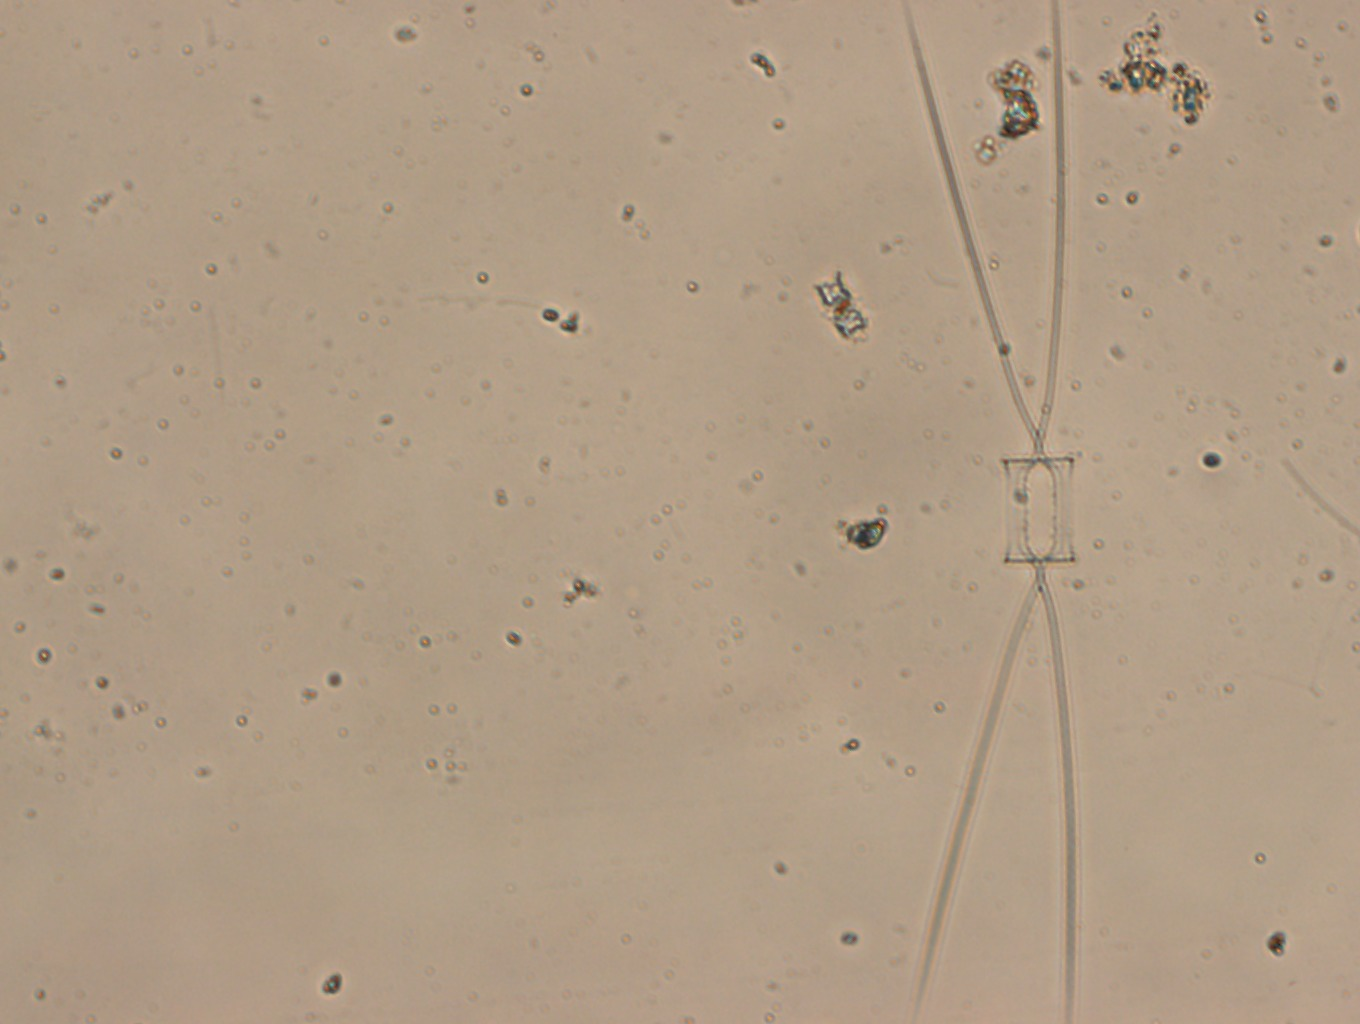chaetoceros: (903, 1, 1078, 1023)
